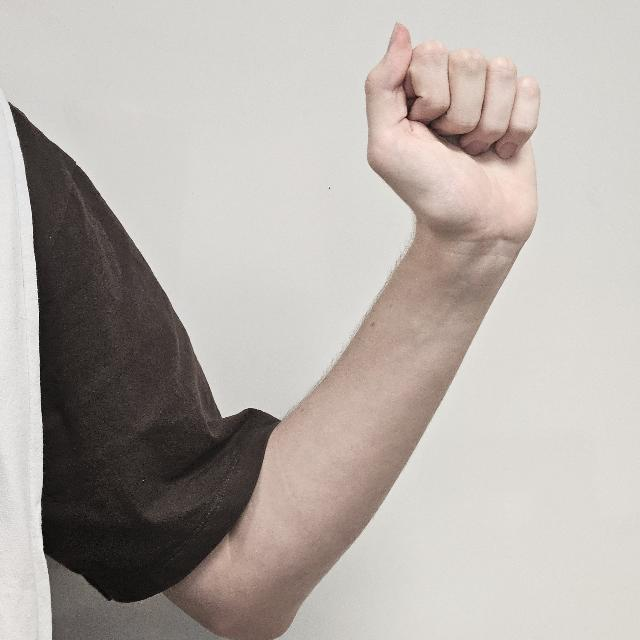Quadro: (362, 21, 540, 247)
